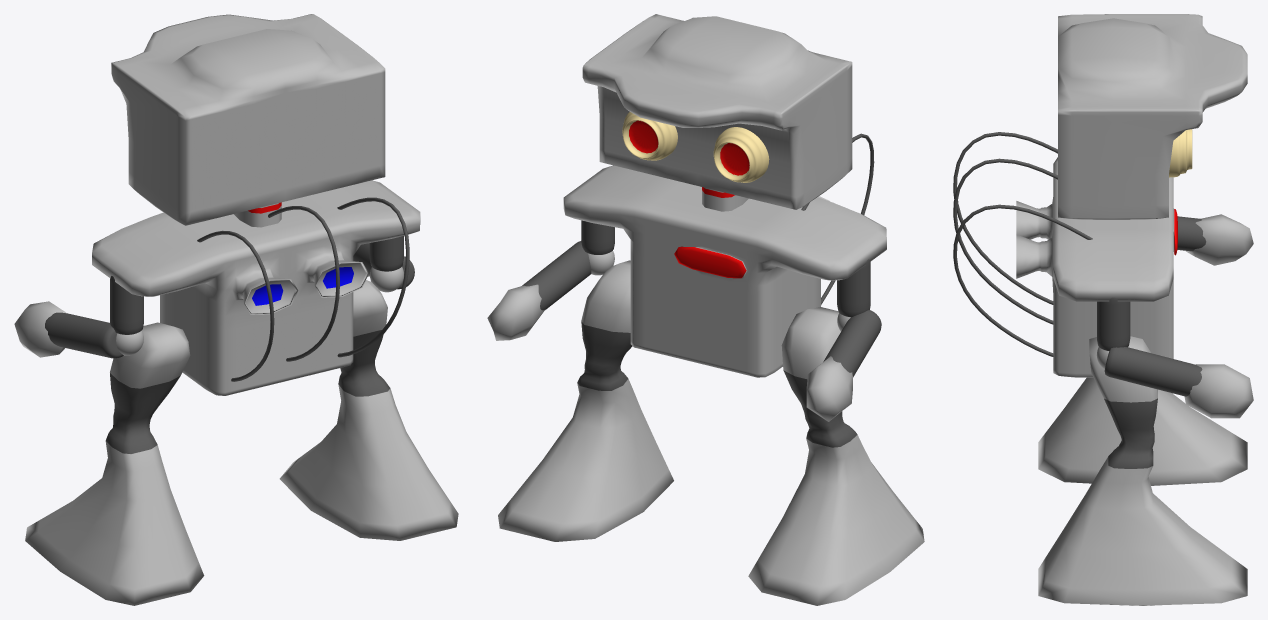
Rendered from robot.fbx.
3 renders of one model, left to right at view 1: azimuth 30°, elevation 25°; view 2: azimuth 150°, elevation 25°; view 3: azimuth 270°, elevation 25°, orthographic. The views are drawn at different scales.
Parts seen in each view (by area): view 1: robot:pPlane3; view 2: robot:pPlane3; view 3: robot:pPlane3.
Boxes of the visible parts, x1,y1,x2,y2 form: robot:pPlane3: (14, 14, 458, 605); robot:pPlane3: (487, 14, 924, 605); robot:pPlane3: (953, 14, 1253, 605).
Bounding box in the file's own units: 5.5 × 7.12 × 4.04.
